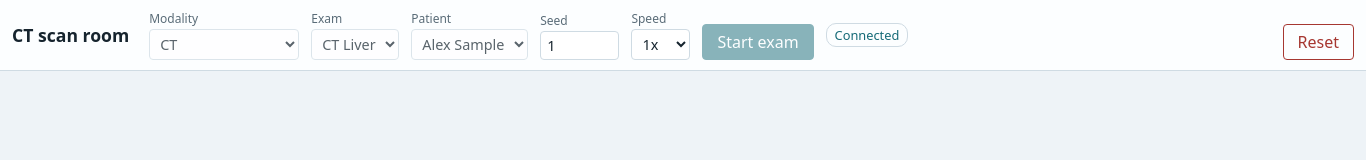
Reset › asks before discarding an exam in which a step is done, and Keep exam leaves it alone
Click the button "Reset" at (1318, 42), box [1282,24,1354,60]
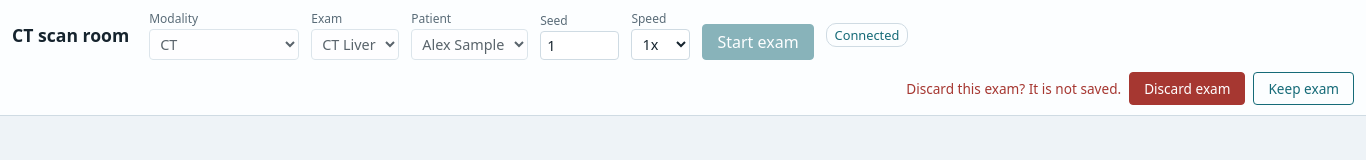
Now the text "Discard this exam? It is not saved. Discard exam Keep exam" is shown, box [906,72,1354,105]
Click the button "Keep exam" at (1304, 88), box [1253,72,1354,105]
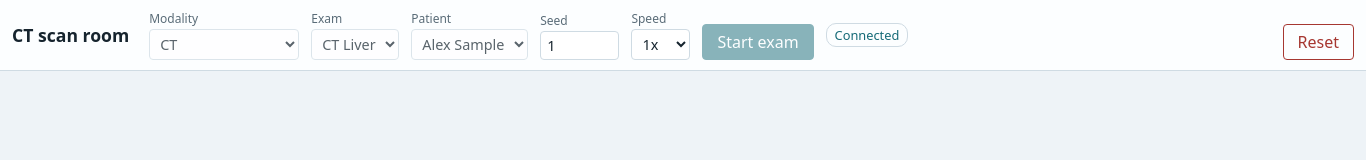
Now the button "Reset" is shown, box [1282,24,1354,60]
